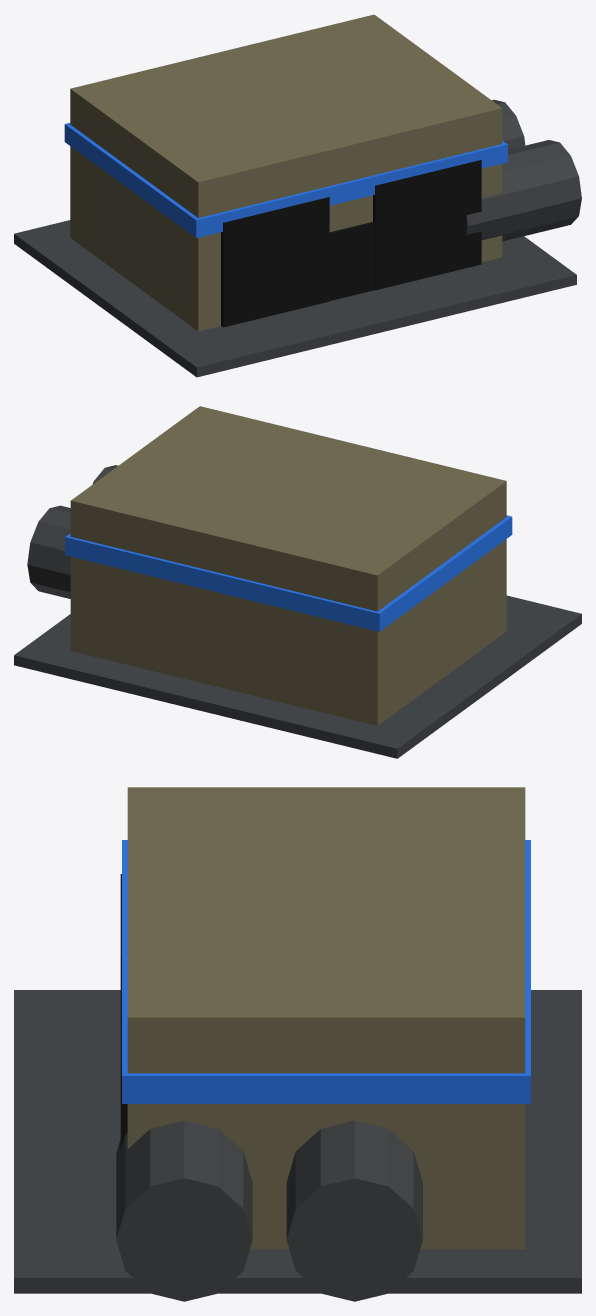
The model's file is us_logistics_hub.glb.
3 renders of one model, top to bottom at view 1: azimuth 30°, elevation 25°; view 2: azimuth 150°, elevation 25°; view 3: azimuth 270°, elevation 25°, orthographic. The views are drawn at different scales.
Visible parts, largest first — view 1: main, base, garage_0, garage_1, fuel_tank_0, team_band, door, fuel_tank_1; view 2: main, base, team_band, fuel_tank_1; view 3: main, base, fuel_tank_0, fuel_tank_1, team_band.
Part boxes in pixels (x1=…): main: x1=70, y1=14, x2=502, y2=331; base: x1=14, y1=220, x2=576, y2=377; garage_0: x1=221, y1=197, x2=329, y2=327; garage_1: x1=373, y1=160, x2=481, y2=290; fuel_tank_0: x1=466, y1=140, x2=581, y2=241; team_band: x1=64, y1=123, x2=507, y2=238; door: x1=329, y1=222, x2=374, y2=300; fuel_tank_1: x1=492, y1=99, x2=525, y2=149; main: x1=70, y1=406, x2=506, y2=725; base: x1=14, y1=595, x2=581, y2=758; team_band: x1=65, y1=515, x2=512, y2=631; fuel_tank_1: x1=27, y1=505, x2=70, y2=598; main: x1=127, y1=787, x2=525, y2=1249; base: x1=14, y1=990, x2=581, y2=1293; fuel_tank_0: x1=116, y1=1120, x2=252, y2=1301; fuel_tank_1: x1=286, y1=1120, x2=422, y2=1301; team_band: x1=122, y1=840, x2=530, y2=1103.
Size of the model in its own units: 13.2 by 4.8 by 10.
